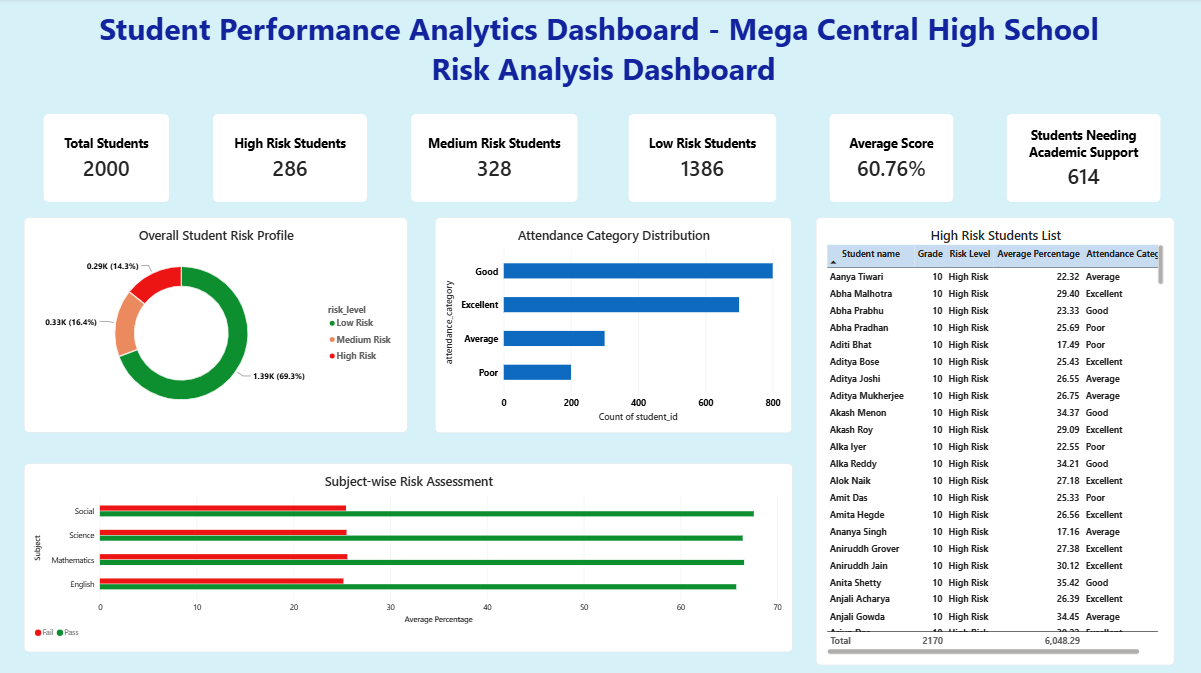

Layout of this report page (visuals, bound fields, positions):
{"tool":"powerbi","page":{"name":"Risk Analysis Dashboard","canvas":[1920,1080],"ordinal":3},"visuals":[{"type":"textbox","box":[10,17.5,1910,147.5],"z":0},{"type":"cardVisual","title":"Total Students","fields":{"Data":["students.Total Students"]},"box":[75,185,200,140],"z":1000},{"type":"cardVisual","title":"Total Students","fields":{"Data":["student_risk_report.At Risk Students"]},"box":[342.5,185,245,140],"z":2000},{"type":"cardVisual","title":"Total Students","fields":{"Data":["student_risk_report.Medium Risk Students"]},"box":[657.5,185,265,140],"z":3000},{"type":"cardVisual","title":"Total Students","fields":{"Data":["student_risk_report.Low Risk Students"]},"box":[1005,185,235,140],"z":4000},{"type":"cardVisual","title":"Total Students","fields":{"Data":["student_progress.Average Score"]},"box":[1325,185,197.5,140],"z":5000},{"type":"cardVisual","title":"Total Students","fields":{"Data":["student_risk_report.Needs Support"]},"box":[1605,185,245,140],"z":6000},{"type":"donutChart","title":"Overall Student Risk Profile","fields":{"Category":["student_risk_report.risk_level"],"Y":["CountNonNull(student_progress.student_id)"]},"box":[42,350,610,342],"z":7000},{"type":"tableEx","title":"High Risk Students List","fields":{"Values":["students.name","Sum(students.grade)","student_risk_report.risk_level","Sum(student_progress.avg_percentage)","student_risk_report.attendance_category"]},"box":[1302,350,570,712],"z":8000},{"type":"clusteredBarChart","title":"Attendance Category Distribution","fields":{"Category":["student_risk_report.attendance_category"],"Y":["CountNonNull(student_risk_report.student_id)"]},"box":[697.5,350,567.5,342.5],"z":9000},{"type":"clusteredBarChart","title":"Subject-wise Risk Assessment","fields":{"Category":["scores.subject"],"Series":["scores.pass_fail"],"Y":["scores.Average Percentage"]},"box":[42.5,742.5,1222.5,300],"z":10000}]}

Visuals, with their boxes in screenshot pixels (x1, y1, x2, y2), scaled from the page's 1920x1080 canvas onto the 1201x673 screenshot:
textbox: bbox=(6, 11, 1200, 103)
"Total Students" cardVisual: bbox=(47, 115, 172, 203)
"Total Students" cardVisual: bbox=(214, 115, 367, 203)
"Total Students" cardVisual: bbox=(411, 115, 577, 203)
"Total Students" cardVisual: bbox=(629, 115, 776, 203)
"Total Students" cardVisual: bbox=(829, 115, 952, 203)
"Total Students" cardVisual: bbox=(1004, 115, 1157, 203)
"Overall Student Risk Profile" donutChart: bbox=(26, 218, 408, 431)
"High Risk Students List" tableEx: bbox=(814, 218, 1171, 662)
"Attendance Category Distribution" clusteredBarChart: bbox=(436, 218, 791, 432)
"Subject-wise Risk Assessment" clusteredBarChart: bbox=(27, 463, 791, 650)
